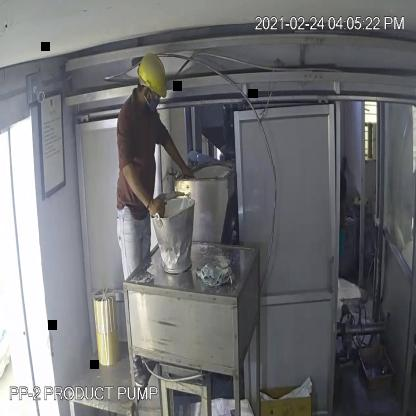helmet: (133, 51, 173, 106)
